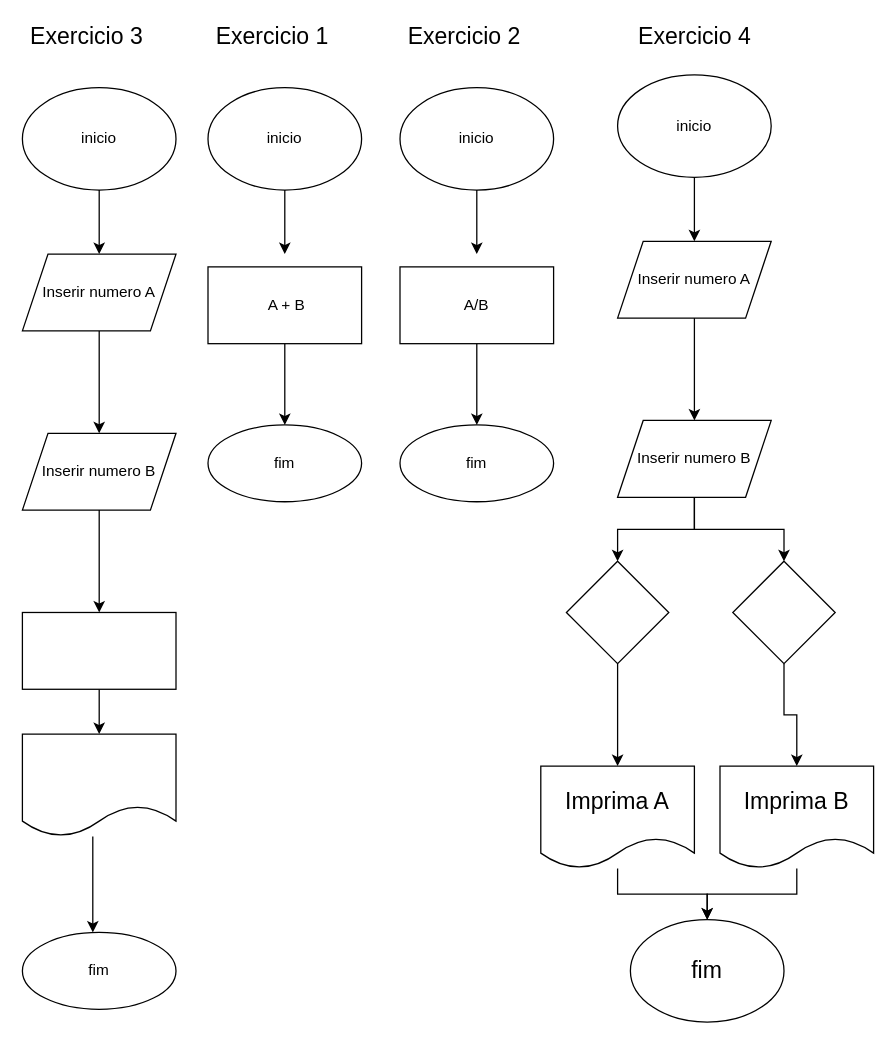
This 896x1044 diagram has some shape labels left out. The shapes that lost their labels are listed below. From the top down, each one's centre as x and y in pixels, then its label:
point 617,612: A > B
point 783,612: B > A
point 98,650: Subtrair A - B
point 98,784: Imprima resultado da subtração
